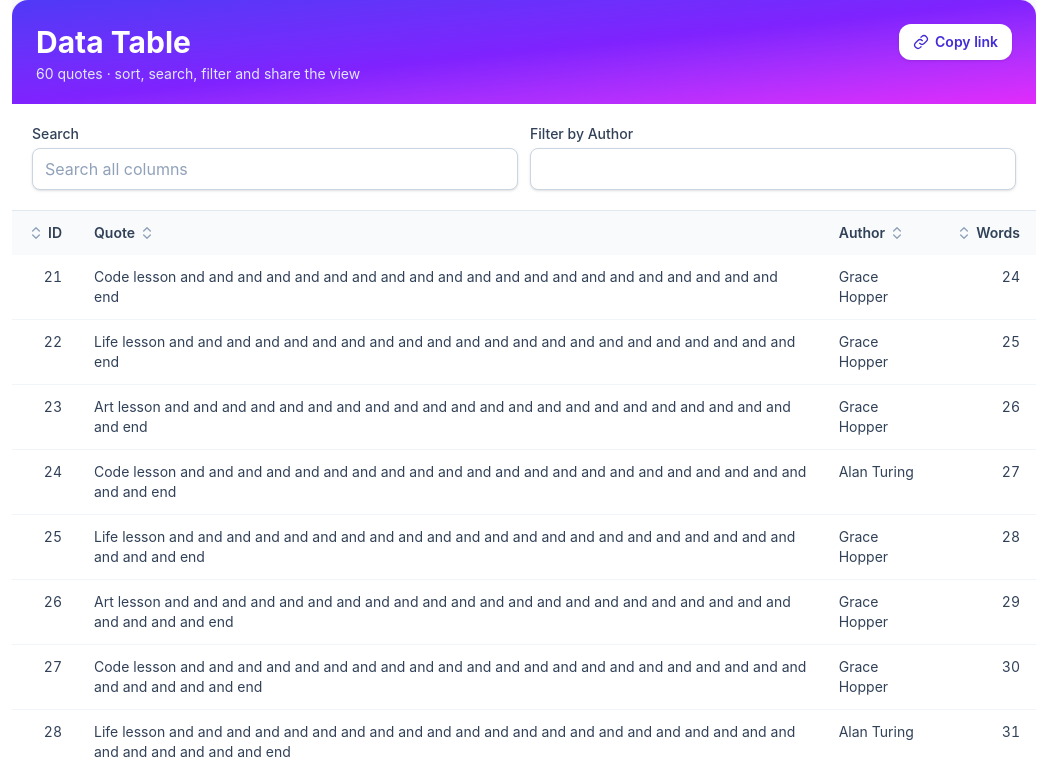
Test: QuotesTablePage › writes view changes to the URL
Step 1. Click the button "Words" → x=988, y=233, box [940,211,1036,255]
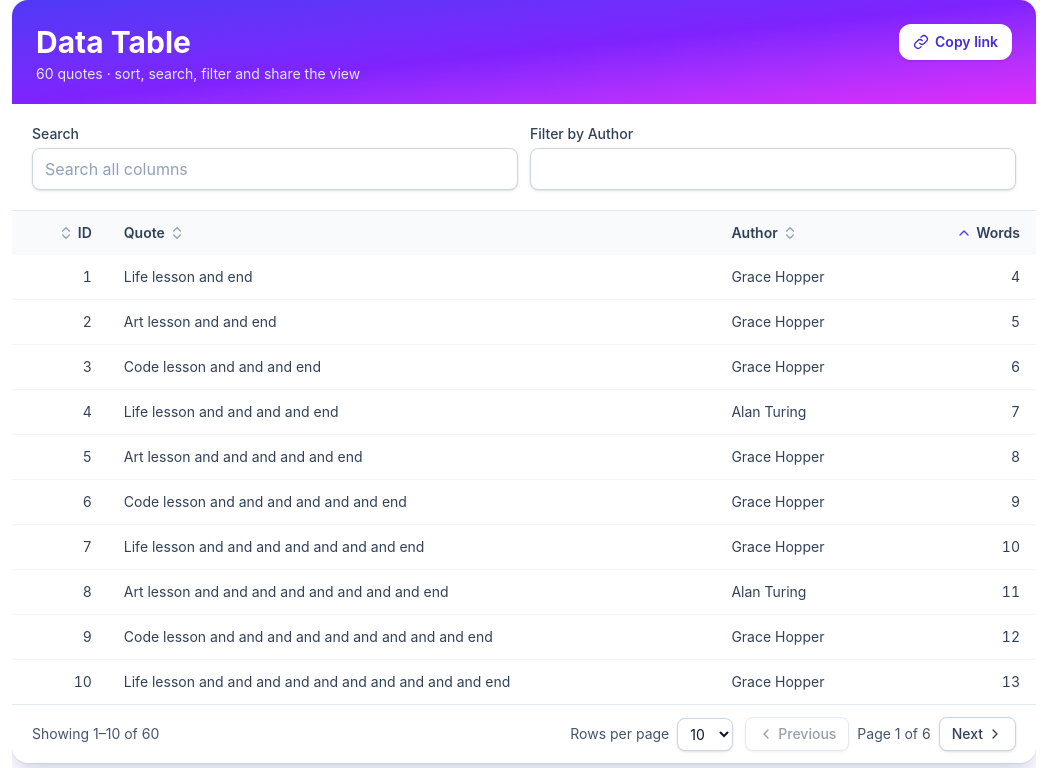
Step 2. Click the button "Next" → x=977, y=734, box [939,717,1016,751]
(page scrolled)
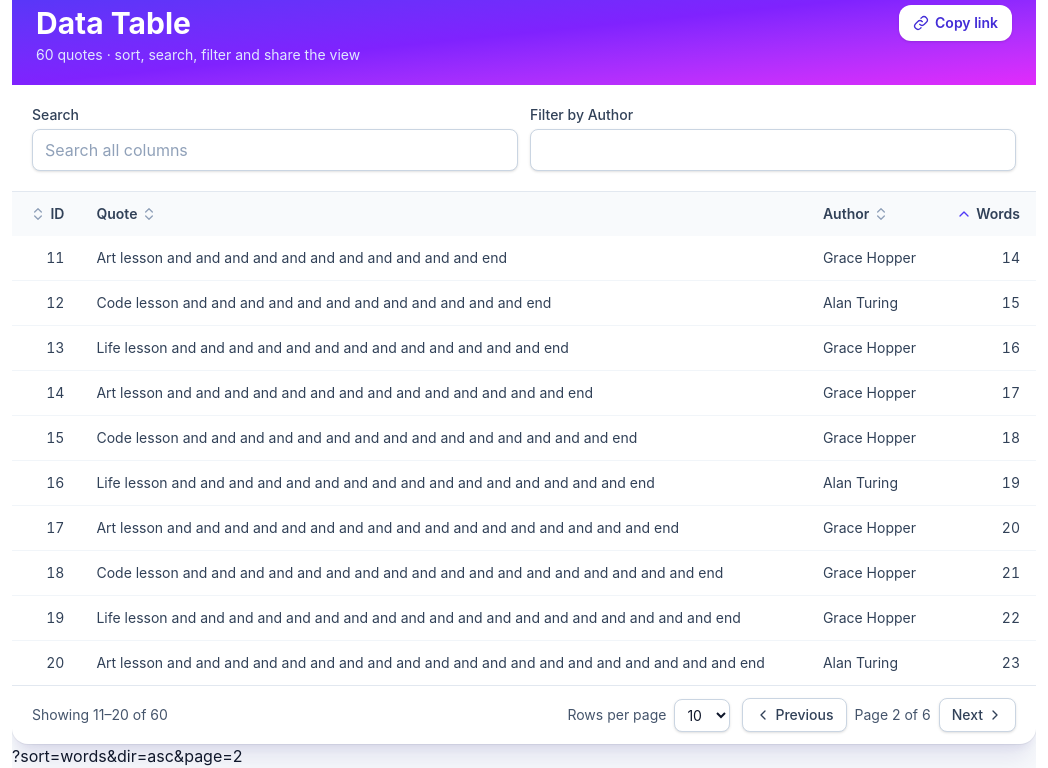
Check: the text named "Current search" reads "?sort=words&dir=asc&page=2", box [12,746,243,766]
